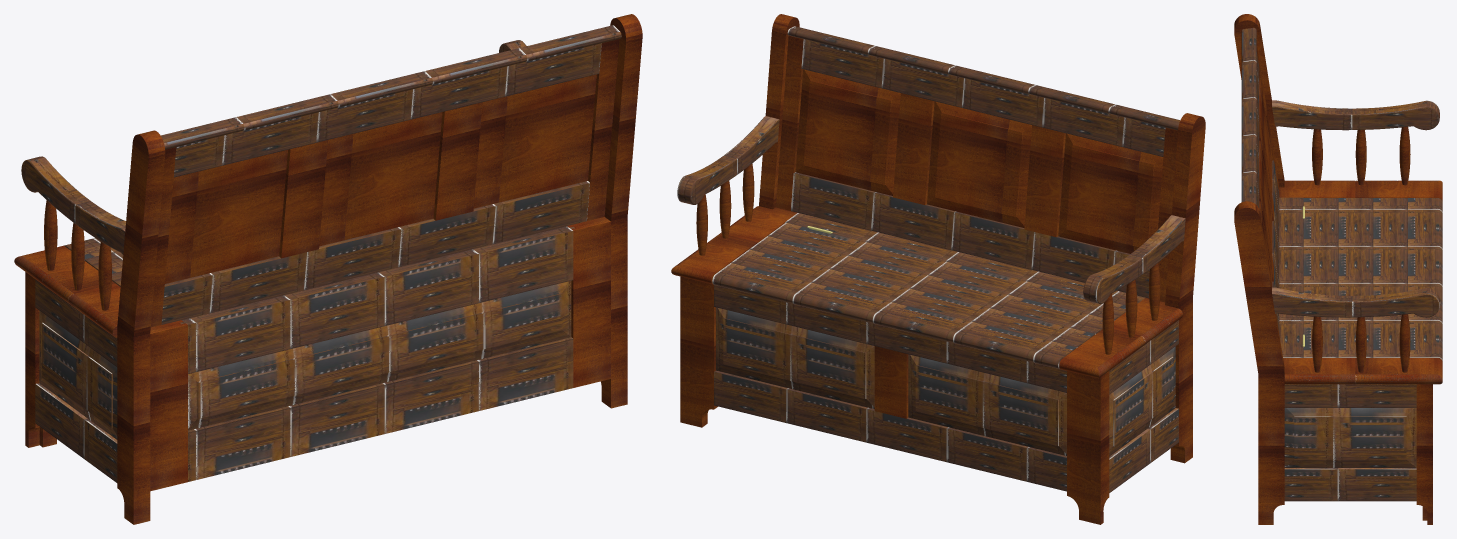
3 renders of one model, left to right at view 1: azimuth 30°, elevation 25°; view 2: azimuth 150°, elevation 25°; view 3: azimuth 270°, elevation 25°, orthographic. The views are drawn at different scales.
Parts seen in each view (by area): view 1: mesh118_mesh118-geometry, mesh5_mesh5-geometry, mesh9_mesh9-geometry, mesh3_mesh3-geometry, mesh114_mesh114-geometry, mesh112_mesh112-geometry, mesh156_mesh156-geometry, mesh116_mesh116-geometry, mesh152_mesh152-geometry, mesh162_mesh162-geometry, mesh7_mesh7-geometry, mesh1_mesh1-geometry (+11 smaller); view 2: mesh118_mesh118-geometry, mesh13_mesh13-geometry, mesh114_mesh114-geometry, mesh21_mesh21-geometry, mesh27_mesh27-geometry, mesh112_mesh112-geometry, mesh31_mesh31-geometry, mesh19_mesh19-geometry, mesh156_mesh156-geometry, mesh116_mesh116-geometry, mesh29_mesh29-geometry, mesh162_mesh162-geometry (+19 smaller); view 3: mesh27_mesh27-geometry, mesh152_mesh152-geometry, mesh43_mesh43-geometry, mesh31_mesh31-geometry, mesh29_mesh29-geometry, mesh41_mesh41-geometry, mesh70_mesh70-geometry, mesh45_mesh45-geometry, mesh84_mesh84-geometry, mesh160_mesh160-geometry, mesh39_mesh39-geometry, mesh100_mesh100-geometry (+11 smaller).
Boxes of the visible parts, x1=… form: mesh118_mesh118-geometry: x1=165, y1=74, x2=596, y2=283; mesh5_mesh5-geometry: x1=188, y1=281, x2=571, y2=430; mesh9_mesh9-geometry: x1=180, y1=226, x2=574, y2=373; mesh3_mesh3-geometry: x1=188, y1=337, x2=573, y2=481; mesh114_mesh114-geometry: x1=161, y1=181, x2=589, y2=324; mesh112_mesh112-geometry: x1=174, y1=43, x2=601, y2=177; mesh156_mesh156-geometry: x1=117, y1=130, x2=165, y2=524; mesh116_mesh116-geometry: x1=279, y1=102, x2=482, y2=258; mesh152_mesh152-geometry: x1=601, y1=14, x2=642, y2=408; mesh162_mesh162-geometry: x1=161, y1=25, x2=621, y2=149; mesh7_mesh7-geometry: x1=567, y1=217, x2=610, y2=387; mesh1_mesh1-geometry: x1=150, y1=320, x2=187, y2=491; mesh118_mesh118-geometry: x1=795, y1=69, x2=1163, y2=253; mesh13_mesh13-geometry: x1=716, y1=307, x2=1066, y2=455; mesh114_mesh114-geometry: x1=791, y1=172, x2=1149, y2=298; mesh21_mesh21-geometry: x1=714, y1=370, x2=1066, y2=491; mesh27_mesh27-geometry: x1=731, y1=236, x2=1102, y2=347; mesh112_mesh112-geometry: x1=801, y1=39, x2=1165, y2=156; mesh31_mesh31-geometry: x1=712, y1=263, x2=1076, y2=368; mesh19_mesh19-geometry: x1=714, y1=285, x2=1066, y2=392; mesh156_mesh156-geometry: x1=1165, y1=113, x2=1205, y2=463; mesh116_mesh116-geometry: x1=893, y1=93, x2=1065, y2=237; mesh29_mesh29-geometry: x1=768, y1=222, x2=1125, y2=320; mesh162_mesh162-geometry: x1=787, y1=26, x2=1180, y2=130; mesh27_mesh27-geometry: x1=1338, y1=198, x2=1407, y2=357; mesh152_mesh152-geometry: x1=1234, y1=201, x2=1284, y2=524; mesh43_mesh43-geometry: x1=1284, y1=408, x2=1416, y2=467; mesh31_mesh31-geometry: x1=1408, y1=198, x2=1442, y2=360; mesh29_mesh29-geometry: x1=1303, y1=198, x2=1338, y2=357; mesh41_mesh41-geometry: x1=1284, y1=468, x2=1416, y2=501; mesh70_mesh70-geometry: x1=1283, y1=358, x2=1442, y2=384; mesh45_mesh45-geometry: x1=1272, y1=287, x2=1439, y2=317; mesh84_mesh84-geometry: x1=1272, y1=100, x2=1439, y2=130; mesh160_mesh160-geometry: x1=1279, y1=197, x2=1303, y2=357; mesh39_mesh39-geometry: x1=1284, y1=384, x2=1416, y2=407; mesh100_mesh100-geometry: x1=1279, y1=180, x2=1442, y2=200.
Bounding box in the file's own units: 0.7538 × 0.5644 × 0.3364.
